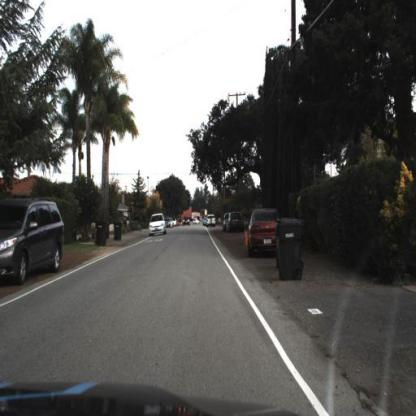car: (0, 193, 64, 290), (244, 206, 283, 254), (248, 206, 281, 260), (148, 213, 166, 237), (148, 212, 166, 234), (206, 214, 216, 230)
